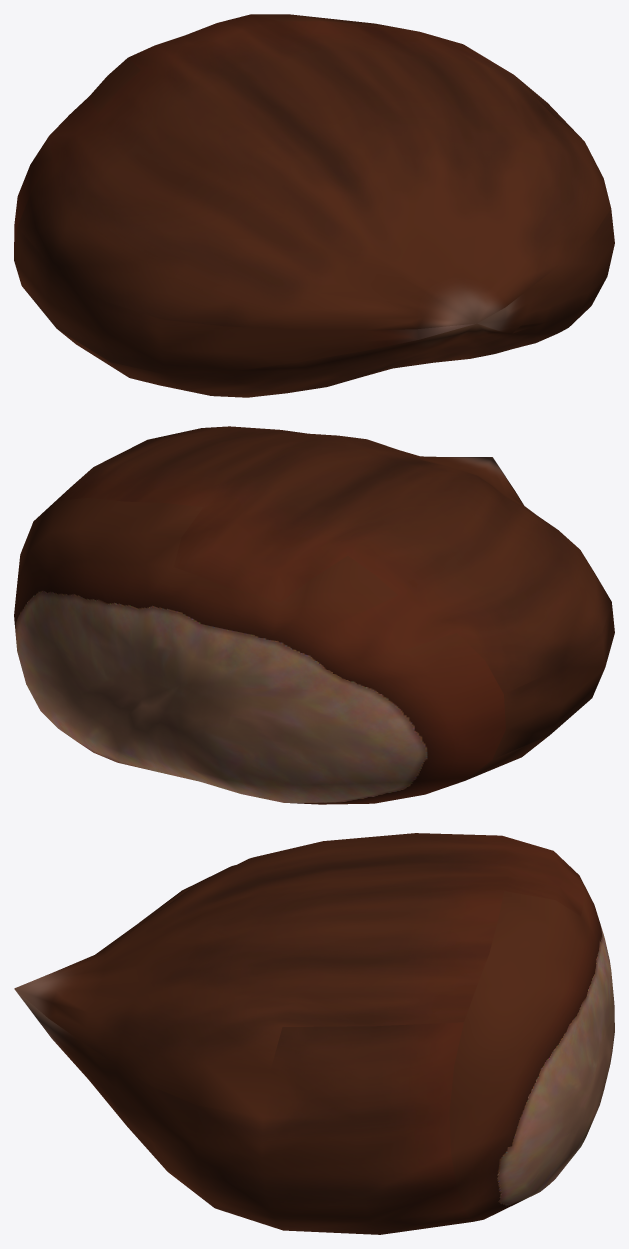
File: castana.gltf
3 views of the same model, one above another, from view 1: azimuth 30°, elevation 25°; view 2: azimuth 150°, elevation 25°; view 3: azimuth 270°, elevation 25° (orthographic). The views are drawn at different scales.
Visible parts, largest first — view 1: Chestnut; view 2: Chestnut; view 3: Chestnut.
Part boxes in pixels (x1,y1,x2,y2): Chestnut: [14, 14, 614, 397]; Chestnut: [14, 426, 614, 804]; Chestnut: [14, 833, 614, 1234].
Size of the model in its own units: 1 by 0.5114 by 1.
Materials: 1 (1 with a texture image).
